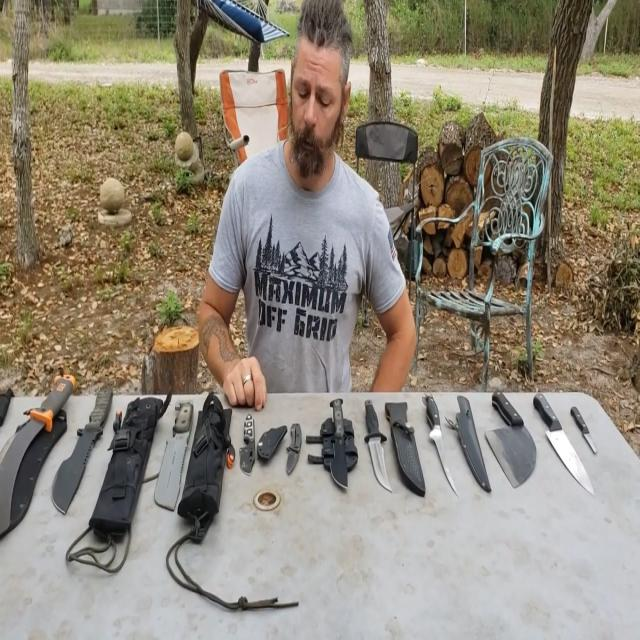knife: (0, 371, 75, 528), (44, 372, 112, 527), (530, 378, 596, 501), (480, 379, 540, 500), (146, 394, 197, 527), (419, 389, 466, 502), (358, 384, 401, 501), (326, 386, 352, 497), (565, 396, 606, 458), (237, 402, 259, 491), (280, 414, 306, 487)
